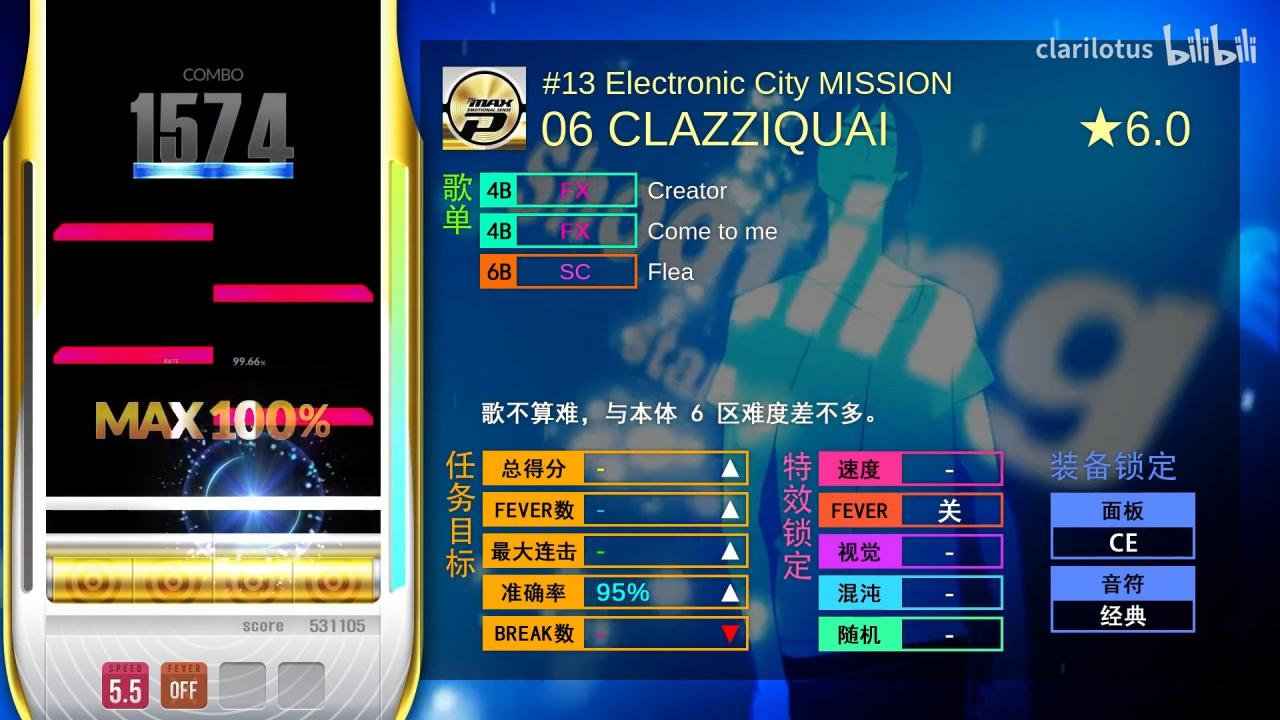note: (133, 162, 215, 179), (215, 162, 293, 179)
xnote: (54, 222, 214, 242), (214, 284, 374, 303), (213, 407, 374, 425), (54, 347, 214, 364)
